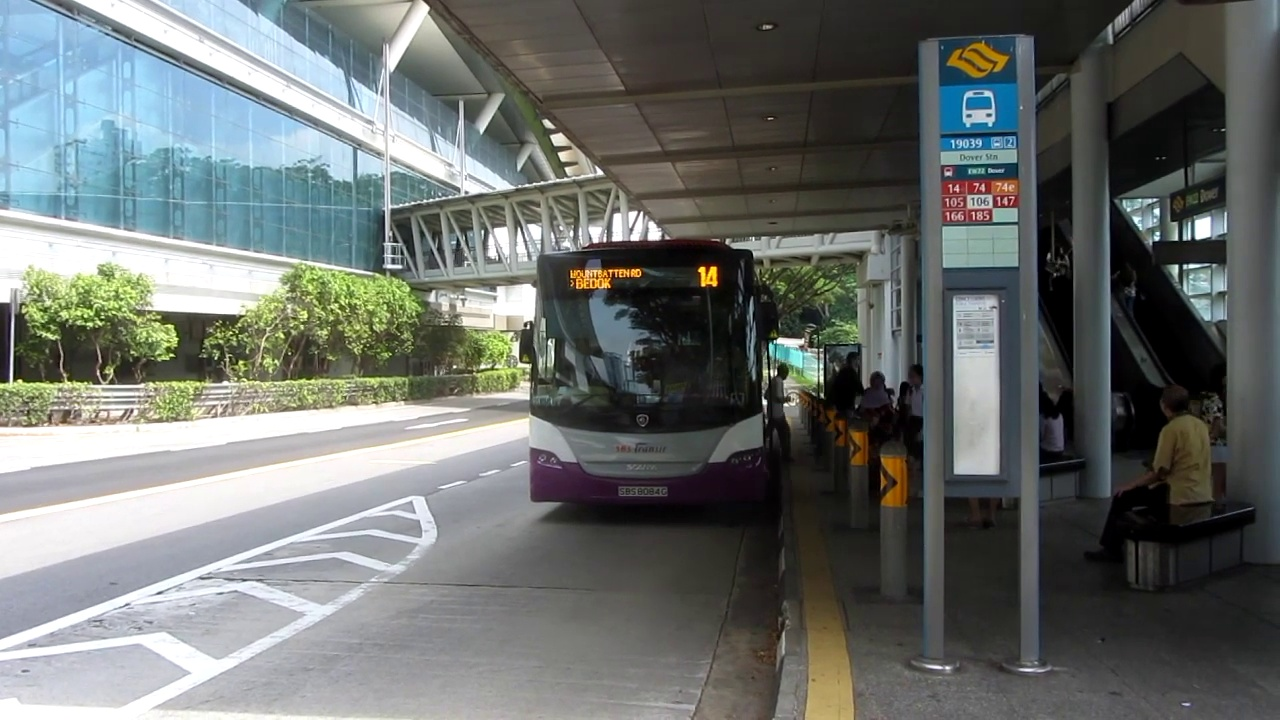bus panel: (565, 264, 724, 292)
